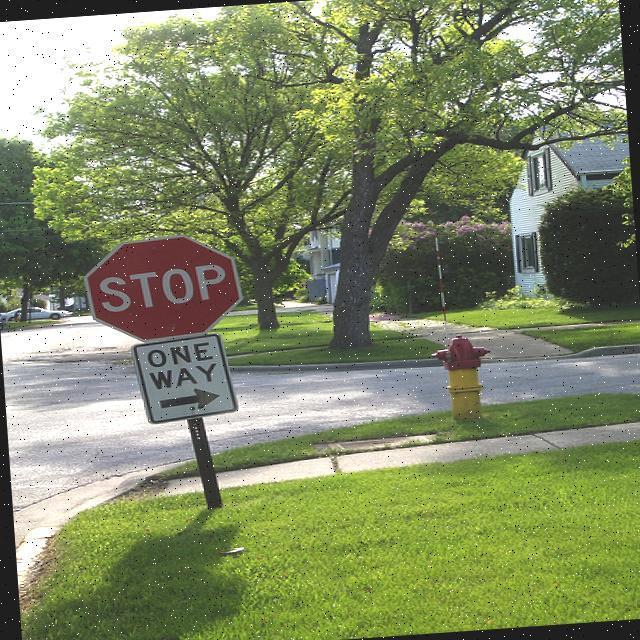fire_hydrant: (428, 332, 494, 422)
